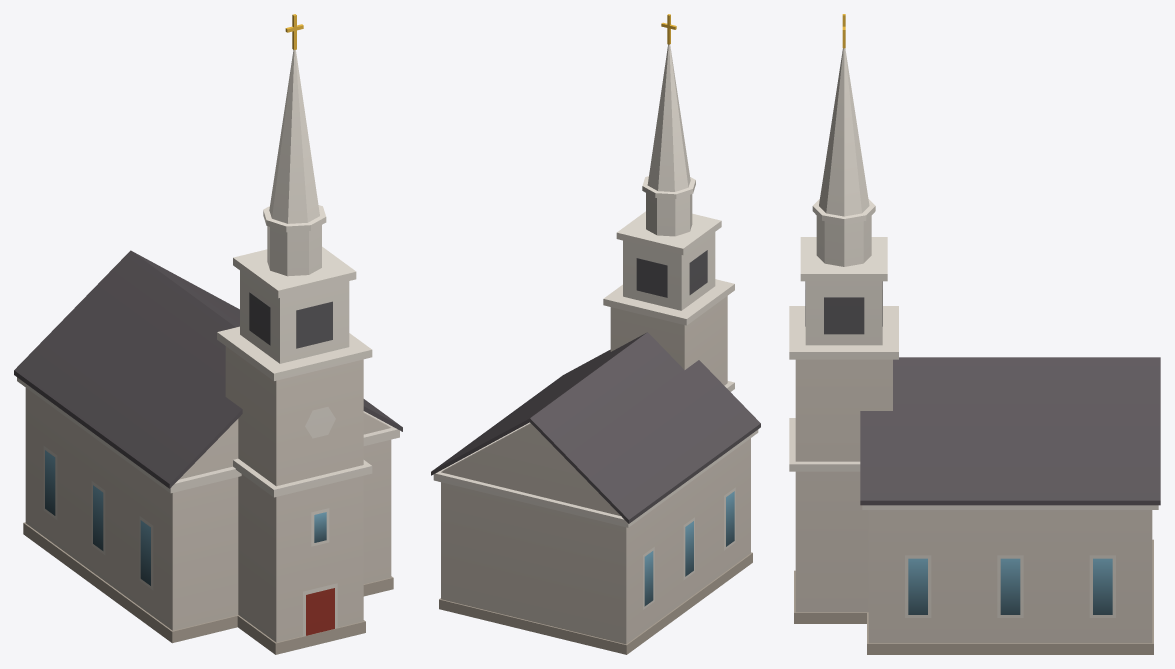
File: hill_chapel_far.glb
The picture shows the model from 3 angles, left to right: view 1: azimuth 30°, elevation 25°; view 2: azimuth 150°, elevation 25°; view 3: azimuth 270°, elevation 25°; orthographic projection. The views are drawn at different scales.
Visible parts, largest first — view 1: hill_chapel_far; view 2: hill_chapel_far; view 3: hill_chapel_far.
Boxes of the visible parts, bbox=[...] form: hill_chapel_far: bbox=[14, 14, 402, 654]; hill_chapel_far: bbox=[431, 14, 760, 654]; hill_chapel_far: bbox=[789, 14, 1160, 654].
Bounding box in the file's own units: 12.8 × 32 × 18.3.
1 material, 1 textured.
